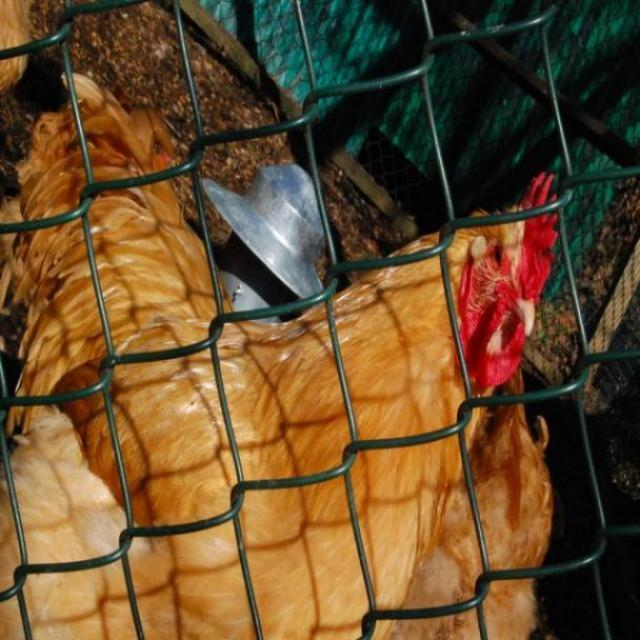Chicken: (4, 80, 551, 639)
